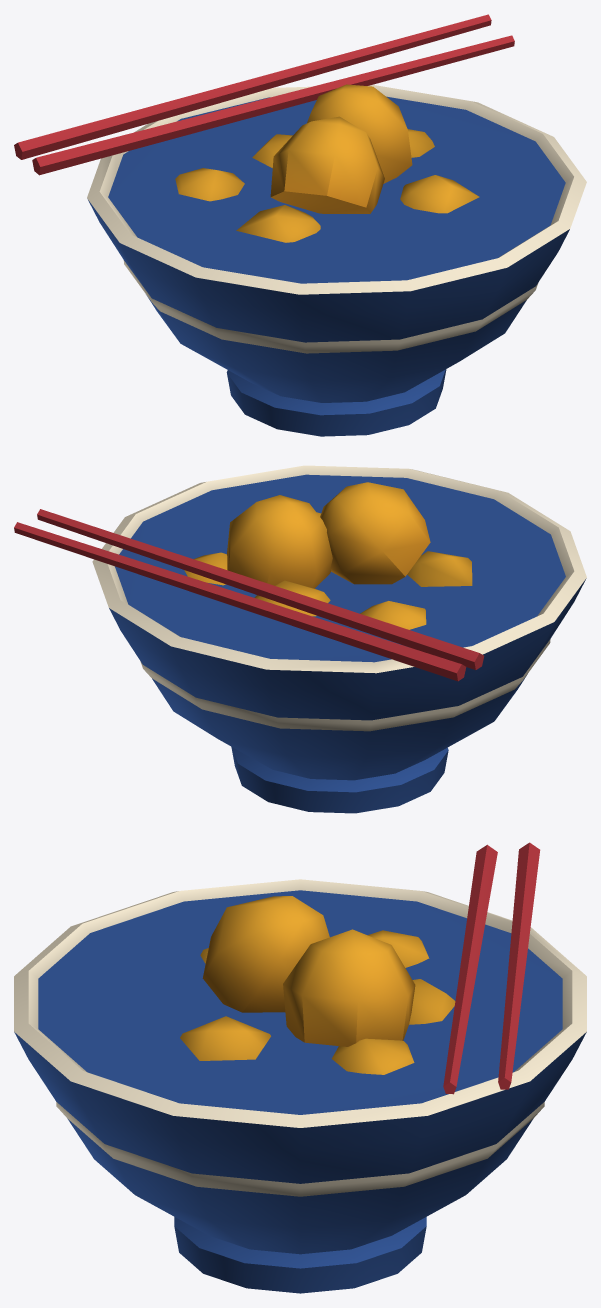
The model's file is bowl-chestnuts.glb.
The picture shows the model from 3 angles, top to bottom: view 1: azimuth 30°, elevation 25°; view 2: azimuth 150°, elevation 25°; view 3: azimuth 270°, elevation 25°; orthographic projection. The views are drawn at different scales.
Parts seen in each view (by area): view 1: Bowl chestnuts Bowl glaze, Bowl chestnuts Honey chestnut, Bowl chestnuts Bowl inner, Bowl chestnuts Chopsticks; view 2: Bowl chestnuts Bowl glaze, Bowl chestnuts Honey chestnut, Bowl chestnuts Bowl inner, Bowl chestnuts Chopsticks; view 3: Bowl chestnuts Bowl glaze, Bowl chestnuts Honey chestnut, Bowl chestnuts Bowl inner, Bowl chestnuts Chopsticks.
Part boxes in pixels (x1,y1,x2,y2): Bowl chestnuts Bowl glaze: (88, 96, 569, 436); Bowl chestnuts Honey chestnut: (175, 84, 479, 242); Bowl chestnuts Bowl inner: (87, 84, 586, 353); Bowl chestnuts Chopsticks: (14, 14, 514, 175); Bowl chestnuts Bowl glaze: (109, 474, 586, 813); Bowl chestnuts Honey chestnut: (184, 482, 472, 629); Bowl chestnuts Bowl inner: (92, 465, 586, 731); Bowl chestnuts Chopsticks: (14, 509, 484, 681); Bowl chestnuts Bowl glaze: (14, 890, 586, 1293); Bowl chestnuts Honey chestnut: (180, 896, 455, 1074); Bowl chestnuts Bowl inner: (14, 879, 586, 1196); Bowl chestnuts Chopsticks: (443, 842, 540, 1094).
Size of the model in its own units: 0.2505 by 0.1466 by 0.2301.
